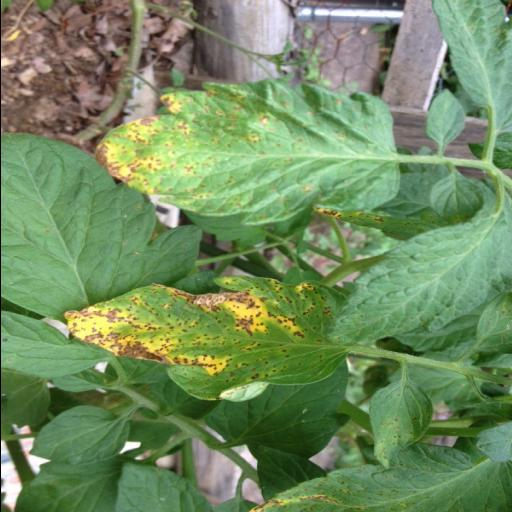disease_tomato: (80, 70, 404, 226), (57, 274, 354, 404), (245, 442, 512, 512), (361, 382, 437, 473)
